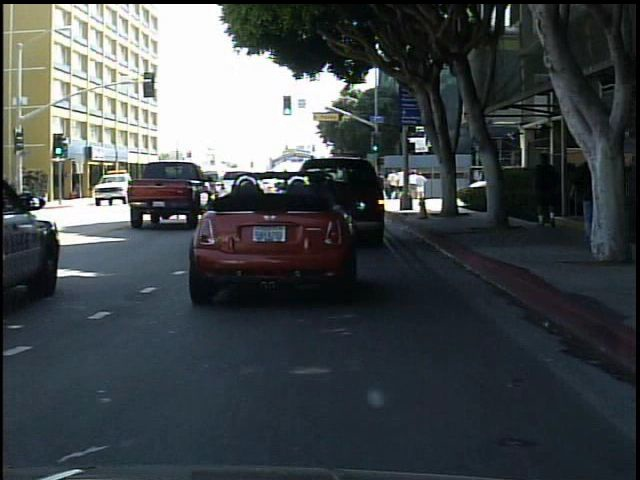person: (572, 138, 614, 257), (528, 148, 564, 232), (144, 173, 162, 201)
